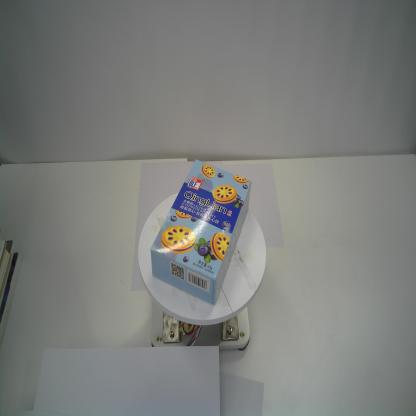Dessert: (150, 159, 252, 305)
